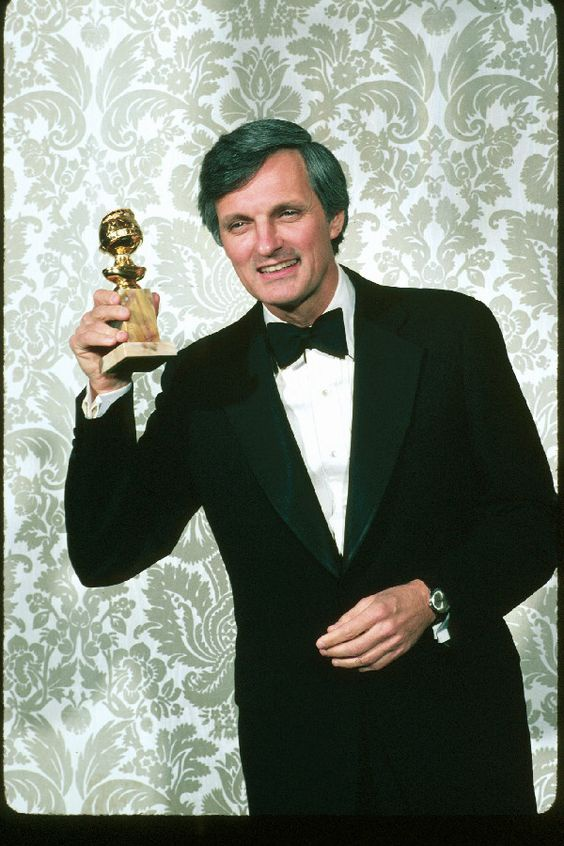hand: (68, 294, 150, 398)
